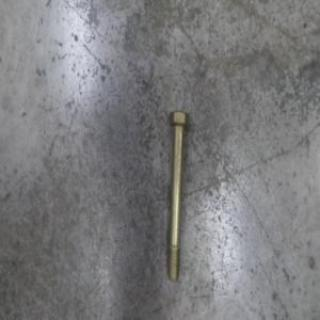Bolttrack_idkeyframe: (166, 106, 188, 282)
